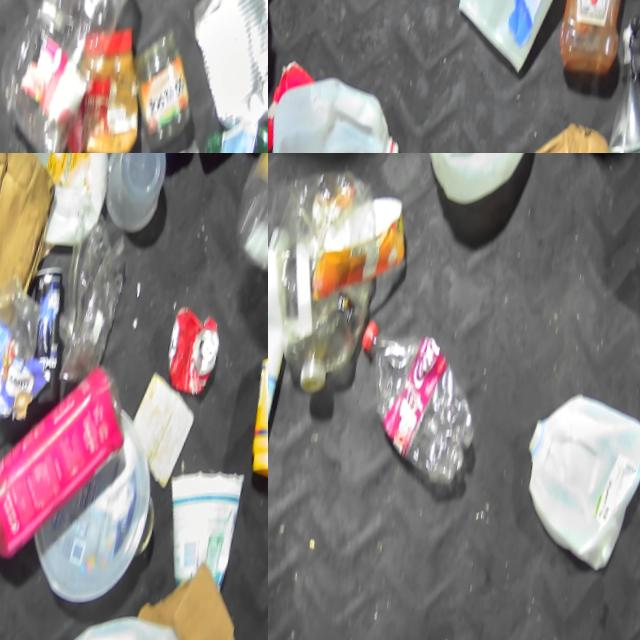can: (11, 260, 79, 403), (152, 301, 225, 403), (183, 153, 245, 177)
milk_jug: (497, 375, 640, 585), (268, 65, 414, 153), (406, 153, 542, 236), (268, 234, 308, 477), (46, 607, 196, 640)
non_white_jug: (0, 356, 135, 592)
plastic_bottle: (268, 164, 399, 403), (332, 305, 495, 494), (188, 107, 268, 153)
